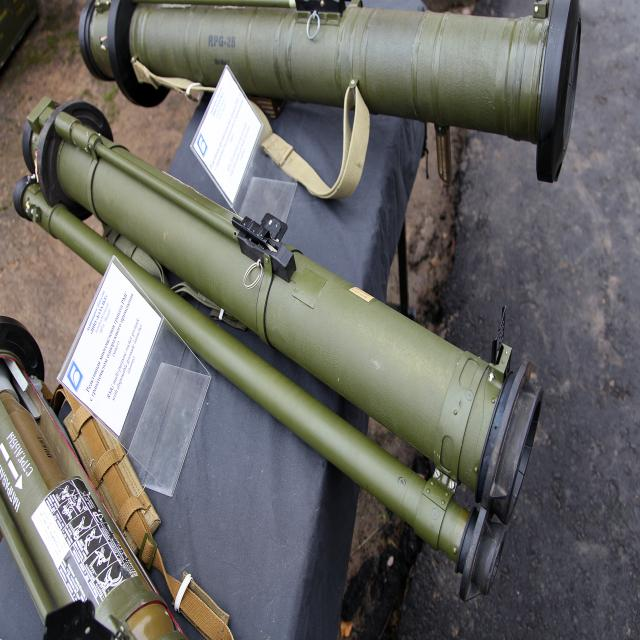bazooka: (1, 3, 582, 640)
